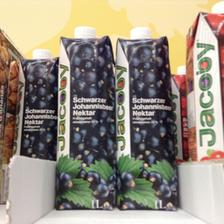Saft: (114, 28, 180, 212), (57, 25, 115, 209), (11, 46, 57, 158)
